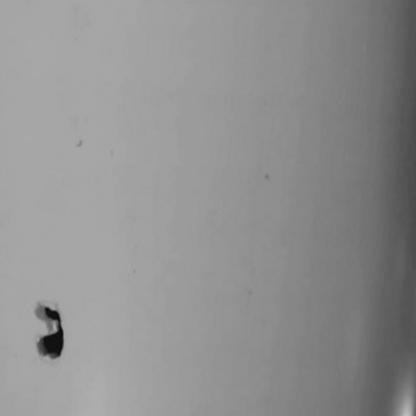kongdong: (28, 297, 67, 364)
